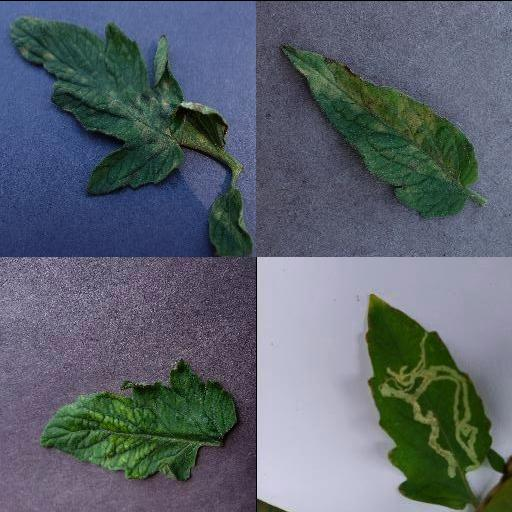Leaf Miner: (364, 291, 492, 510)
Leaf Mold: (10, 15, 228, 195), (279, 42, 479, 214)
Mosaic Virus: (37, 360, 235, 480)
